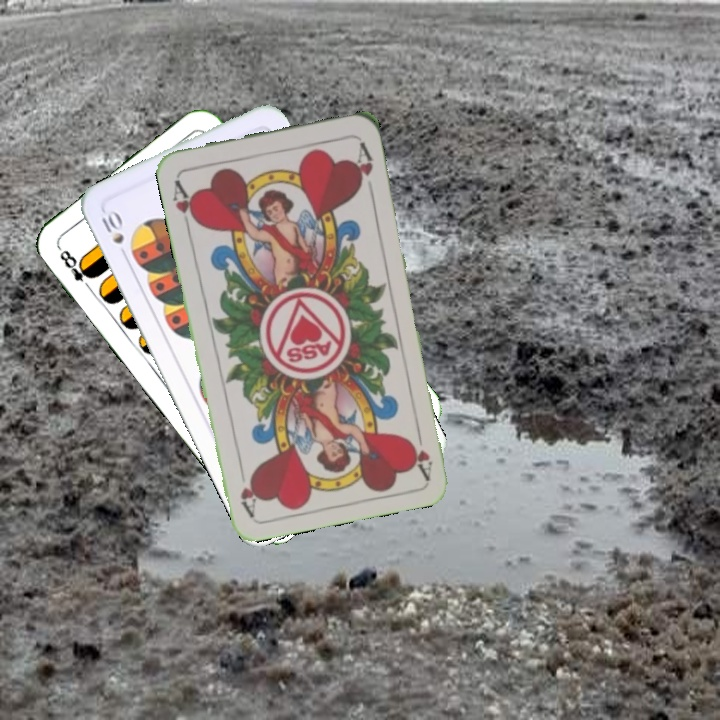E8: (54, 243, 98, 294)
HA: (168, 175, 201, 233), (408, 421, 435, 480)
S10: (97, 206, 131, 262)
